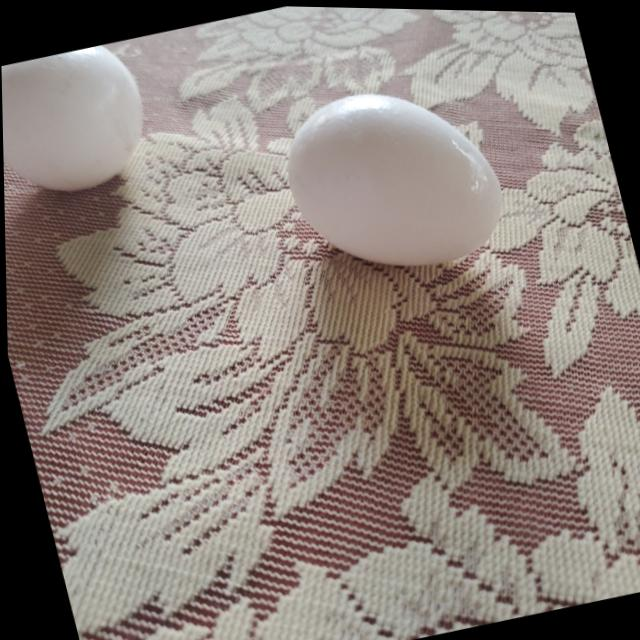egg: (274, 71, 513, 291), (1, 37, 159, 204)
